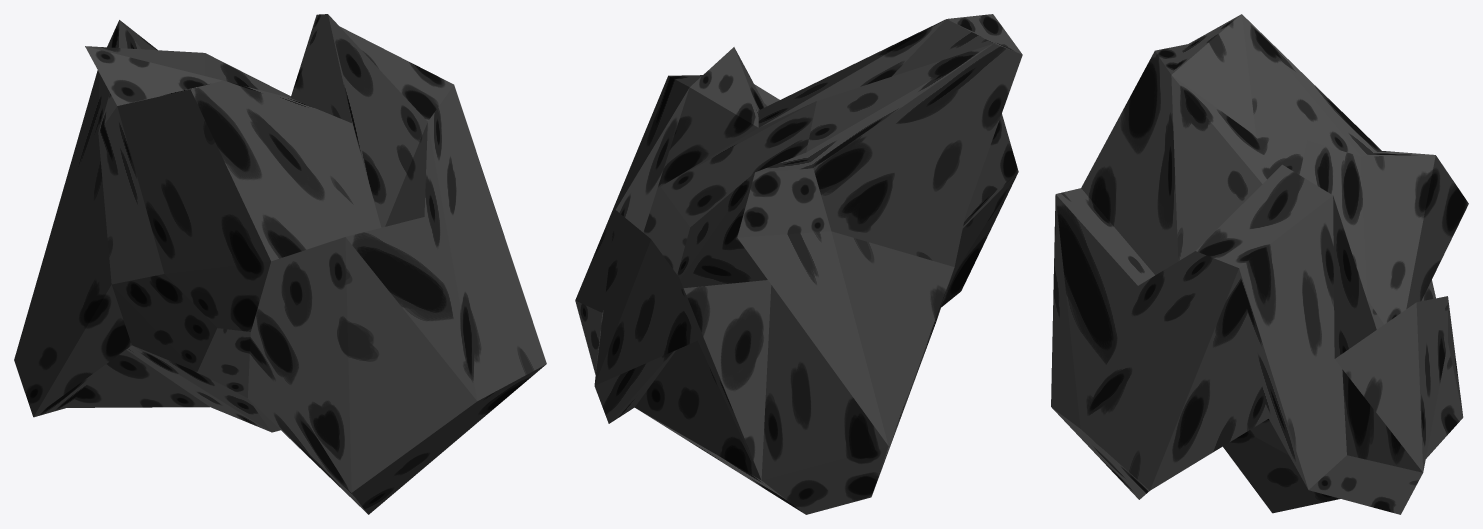
File: asteroid 3.fbx
3 views of the same model, side by side, from view 1: azimuth 30°, elevation 25°; view 2: azimuth 150°, elevation 25°; view 3: azimuth 270°, elevation 25° (orthographic). The views are drawn at different scales.
Visible parts, largest first — view 1: Platonic; view 2: Platonic; view 3: Platonic.
Boxes of the visible parts, x1,y1,x2,y2 form: Platonic: [14, 14, 546, 514]; Platonic: [575, 14, 1022, 514]; Platonic: [1051, 14, 1468, 514].
Bounding box in the file's own units: 264 × 280 × 267.
Materials: 1 (1 with a texture image).
